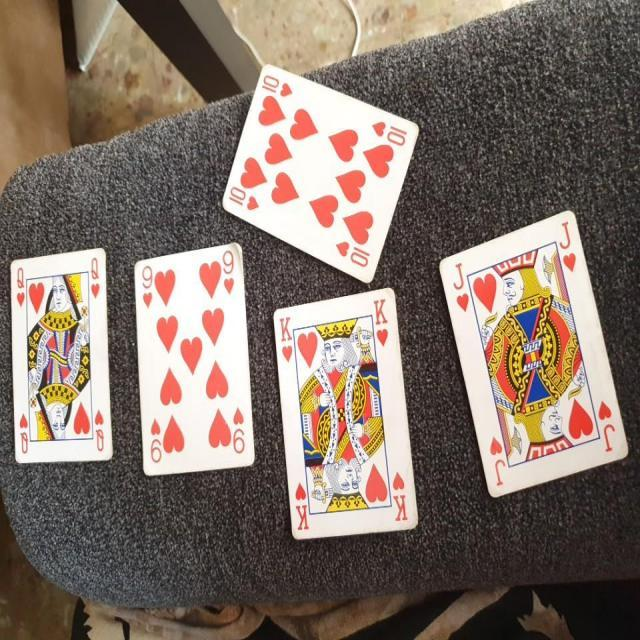10 of hearts: (214, 62, 430, 296)
9 of hearts: (128, 237, 262, 482)
jack of hearts: (420, 198, 635, 504)
king of hearts: (267, 280, 427, 547)
queen of hearts: (10, 237, 119, 474)
